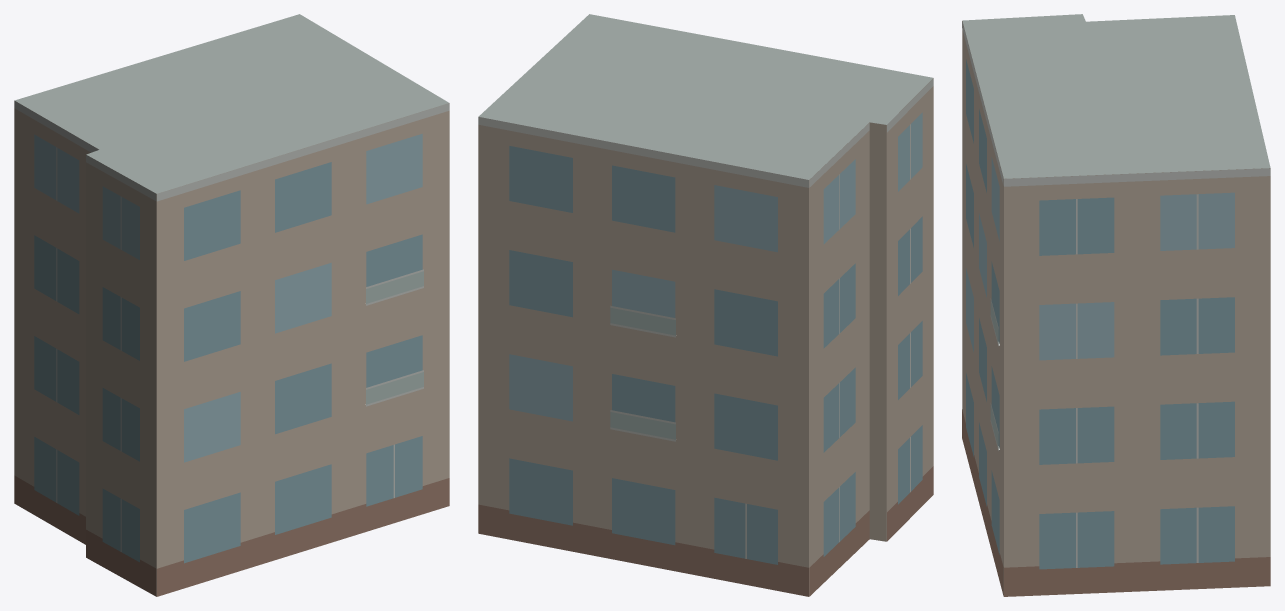
File: survey-upis-32661367.glb
The picture shows the model from 3 angles, left to right: view 1: azimuth 30°, elevation 25°; view 2: azimuth 150°, elevation 25°; view 3: azimuth 270°, elevation 25°; orthographic projection. The views are drawn at different scales.
Visible parts, largest first — view 1: survey-upis-32661367.tmp; view 2: survey-upis-32661367.tmp; view 3: survey-upis-32661367.tmp.
Boxes of the visible parts, x1=… form: survey-upis-32661367.tmp: x1=14, y1=14, x2=449, y2=596; survey-upis-32661367.tmp: x1=478, y1=14, x2=933, y2=596; survey-upis-32661367.tmp: x1=962, y1=14, x2=1270, y2=596.
Size of the model in its own units: 10.83 by 12.8 by 8.57.
